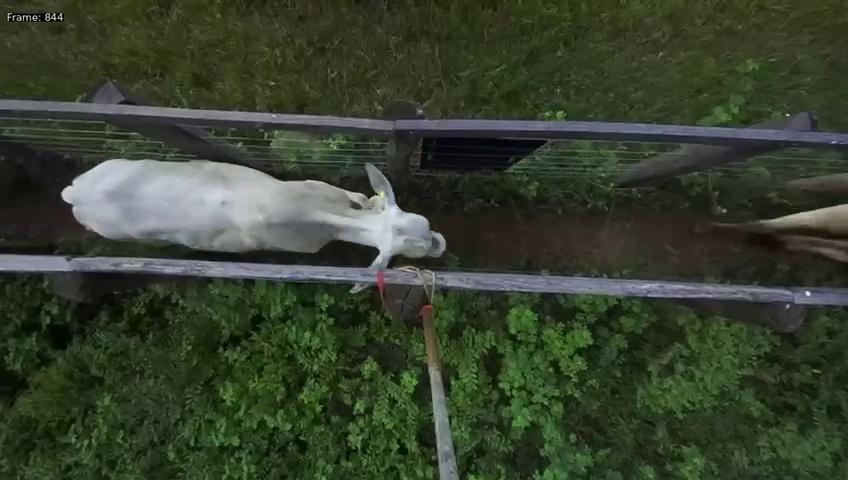cattle: (51, 136, 445, 266)
